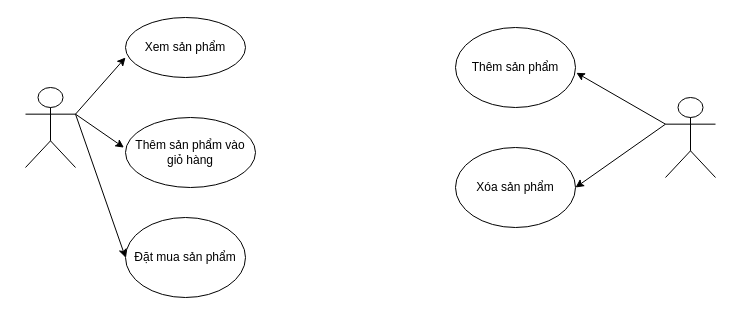
The diagram is 744 pixels wide and 315 high, and some of its shapes have lost their labels. Here are the shapes that lost their labels. From the top down, the centre of each, then its label:
At (x=50, y=127): "Khách Hàng".
At (x=690, y=137): "Quản Trị Viên".
